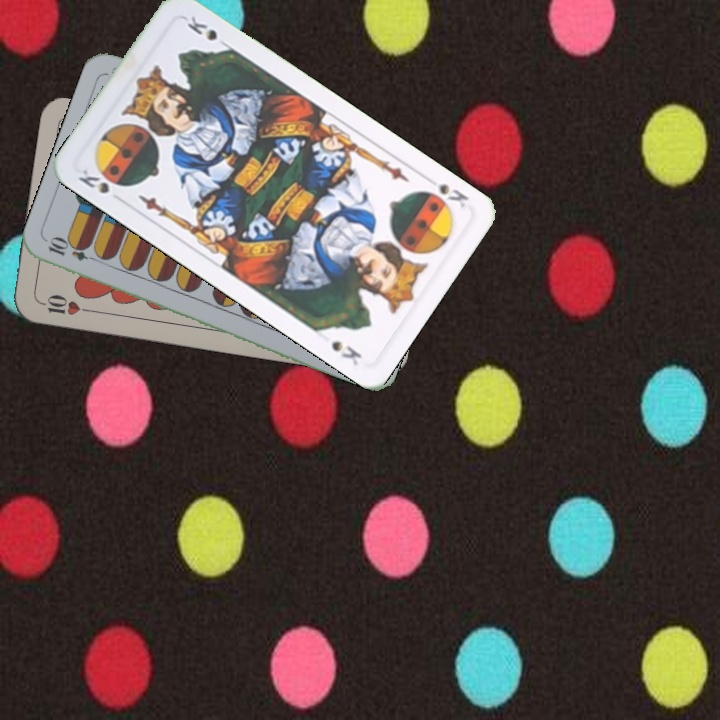E10: (44, 235, 103, 265)
H10: (36, 291, 95, 318)
SK: (417, 172, 472, 212), (74, 165, 126, 205)
